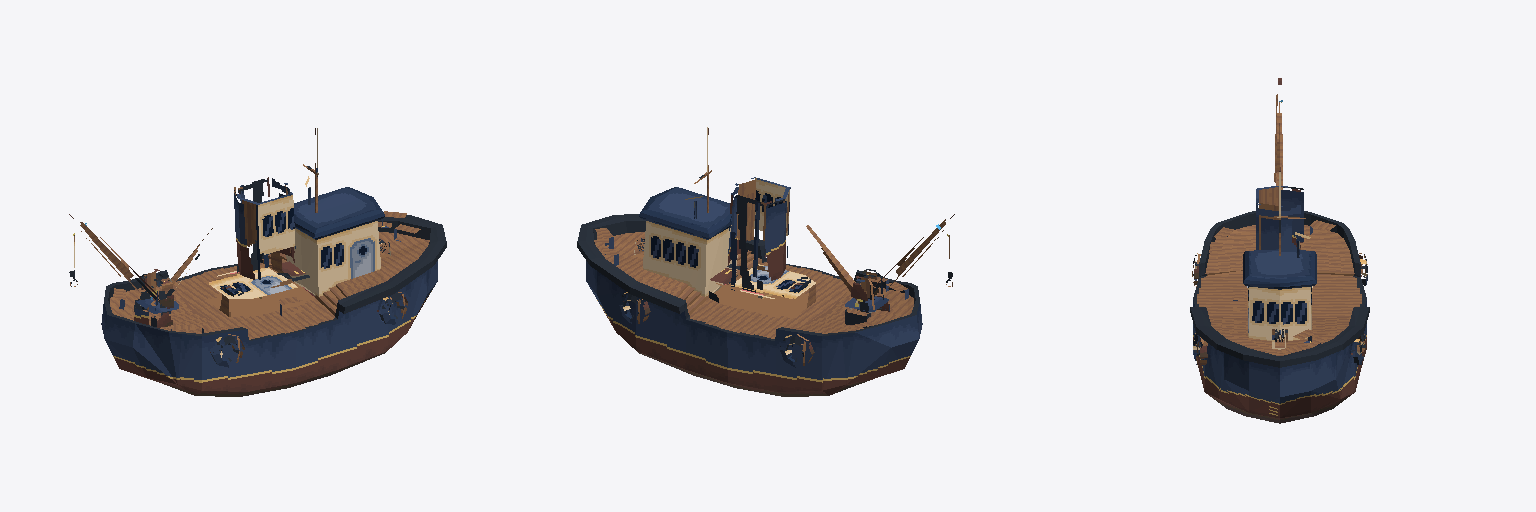
3 views of the same model, side by side, from view 1: azimuth 30°, elevation 25°; view 2: azimuth 150°, elevation 25°; view 3: azimuth 270°, elevation 25° (orthographic).
Visible parts, largest first — view 1: pPlane1, pCylinder6, group3, pCube12; view 2: pPlane1, pCylinder6, group3, pCube12; view 3: pPlane1, pCylinder6, group3.
Part boxes in pixels (left/top/right/bottom): pPlane1: left=101, top=187, right=446, bottom=396; pCylinder6: left=234, top=177, right=295, bottom=298; group3: left=69, top=214, right=212, bottom=327; pCube12: left=209, top=261, right=309, bottom=316; pPlane1: left=577, top=187, right=922, bottom=396; pCylinder6: left=728, top=177, right=790, bottom=298; group3: left=806, top=214, right=954, bottom=327; pCube12: left=709, top=264, right=815, bottom=307; pPlane1: left=1190, top=211, right=1369, bottom=423; pCylinder6: left=1256, top=186, right=1303, bottom=249; group3: left=1274, top=78, right=1282, bottom=189.
Bounding box in the file's own units: 11.23 × 6.51 × 4.66.
Materials: 2 (1 with a texture image).